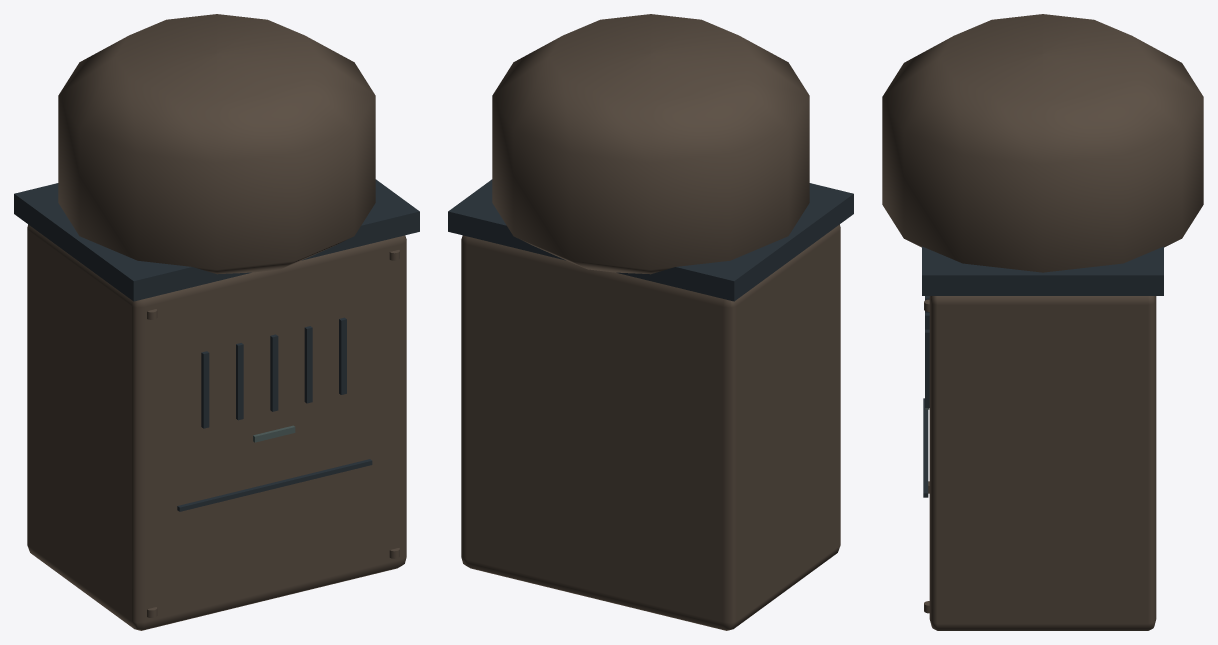
The model's file is hopper-3.glb.
The picture shows the model from 3 angles, left to right: view 1: azimuth 30°, elevation 25°; view 2: azimuth 150°, elevation 25°; view 3: azimuth 270°, elevation 25°; orthographic projection.
Parts seen in each view (by area): view 1: hopper/2/KR-230-3; view 2: hopper/2/KR-230-3; view 3: hopper/2/KR-230-3.
Part boxes in pixels (<box>): hopper/2/KR-230-3: <box>14,14,419,630</box>; hopper/2/KR-230-3: <box>448,14,853,630</box>; hopper/2/KR-230-3: <box>882,14,1203,630</box>.
Bounding box in the file's own units: 1.77 × 3 × 1.7.
